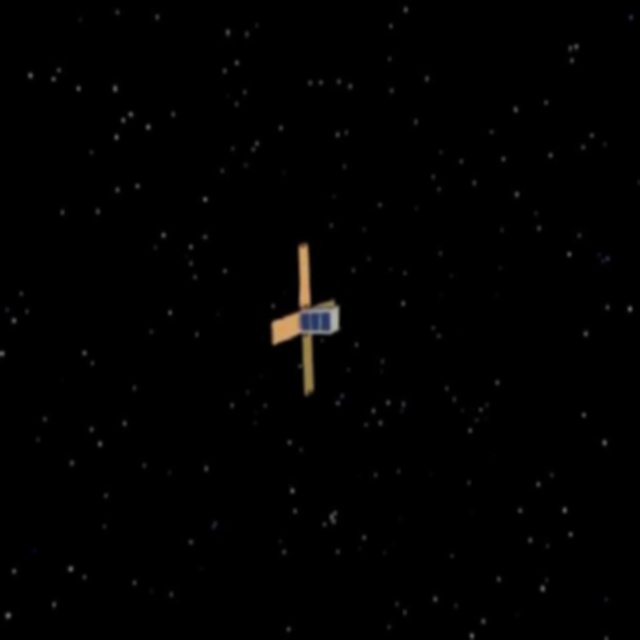medium_debris: (245, 244, 347, 408)
